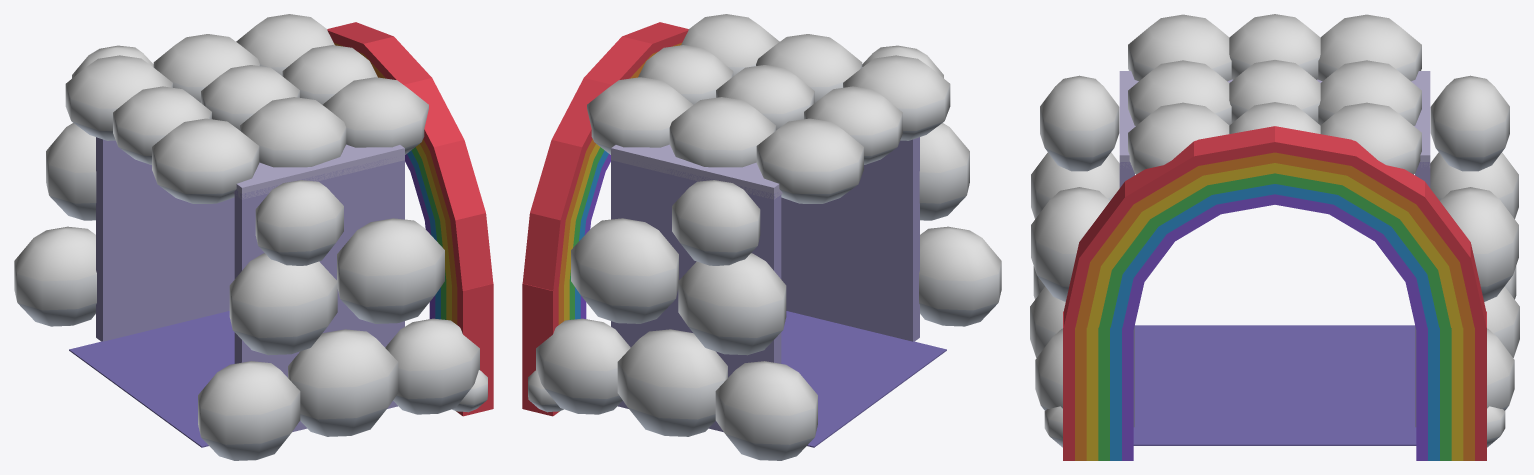
File: carnival-cave.glb
3 renders of one model, left to right at view 1: azimuth 30°, elevation 25°; view 2: azimuth 150°, elevation 25°; view 3: azimuth 270°, elevation 25°, orthographic. The views are drawn at different scales.
Visible parts, largest first — view 1: carnival-cave; view 2: carnival-cave; view 3: carnival-cave.
Part boxes in pixels (x1,y1,x2,y2): carnival-cave: (14,14,493,460); carnival-cave: (522,14,1001,460); carnival-cave: (1030,14,1519,460).
Bounding box in the file's own units: 2.97 × 3 × 4.16.
